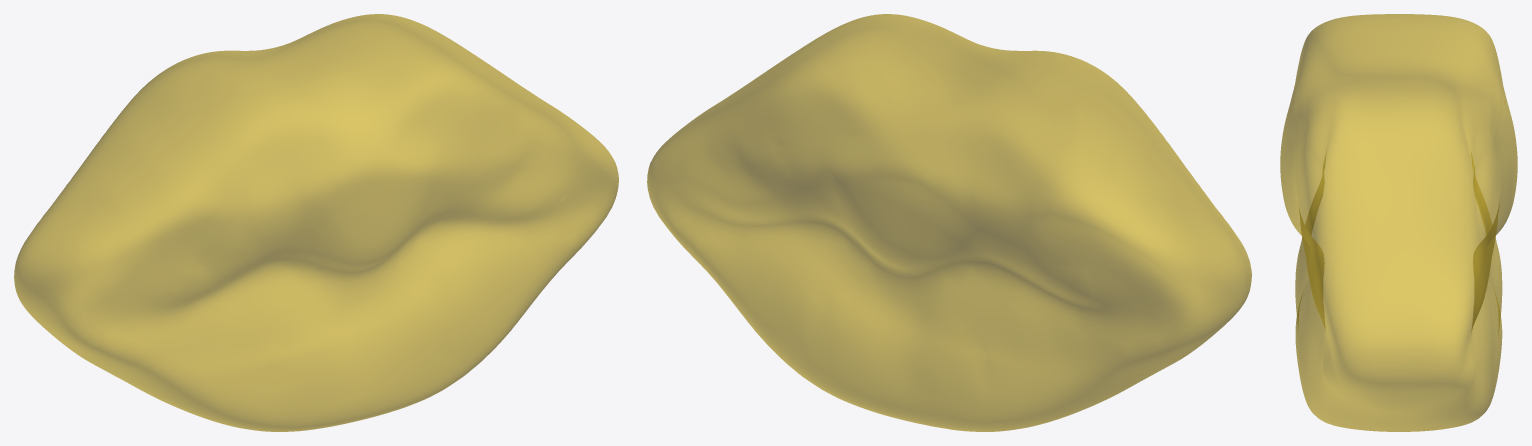
Rendered from tz-boca-abacaxi.glb.
3 views of the same model, side by side, from view 1: azimuth 30°, elevation 25°; view 2: azimuth 150°, elevation 25°; view 3: azimuth 270°, elevation 25° (orthographic). The views are drawn at different scales.
Parts seen in each view (by area): view 1: Lábios.004; view 2: Lábios.004; view 3: Lábios.004.
Boxes of the visible parts, left/top/right/bottom form: Lábios.004: left=14, top=14, right=618, bottom=431; Lábios.004: left=647, top=14, right=1251, bottom=431; Lábios.004: left=1280, top=14, right=1517, bottom=431.
Size of the model in its own units: 0.9975 by 0.5845 by 0.3761.
